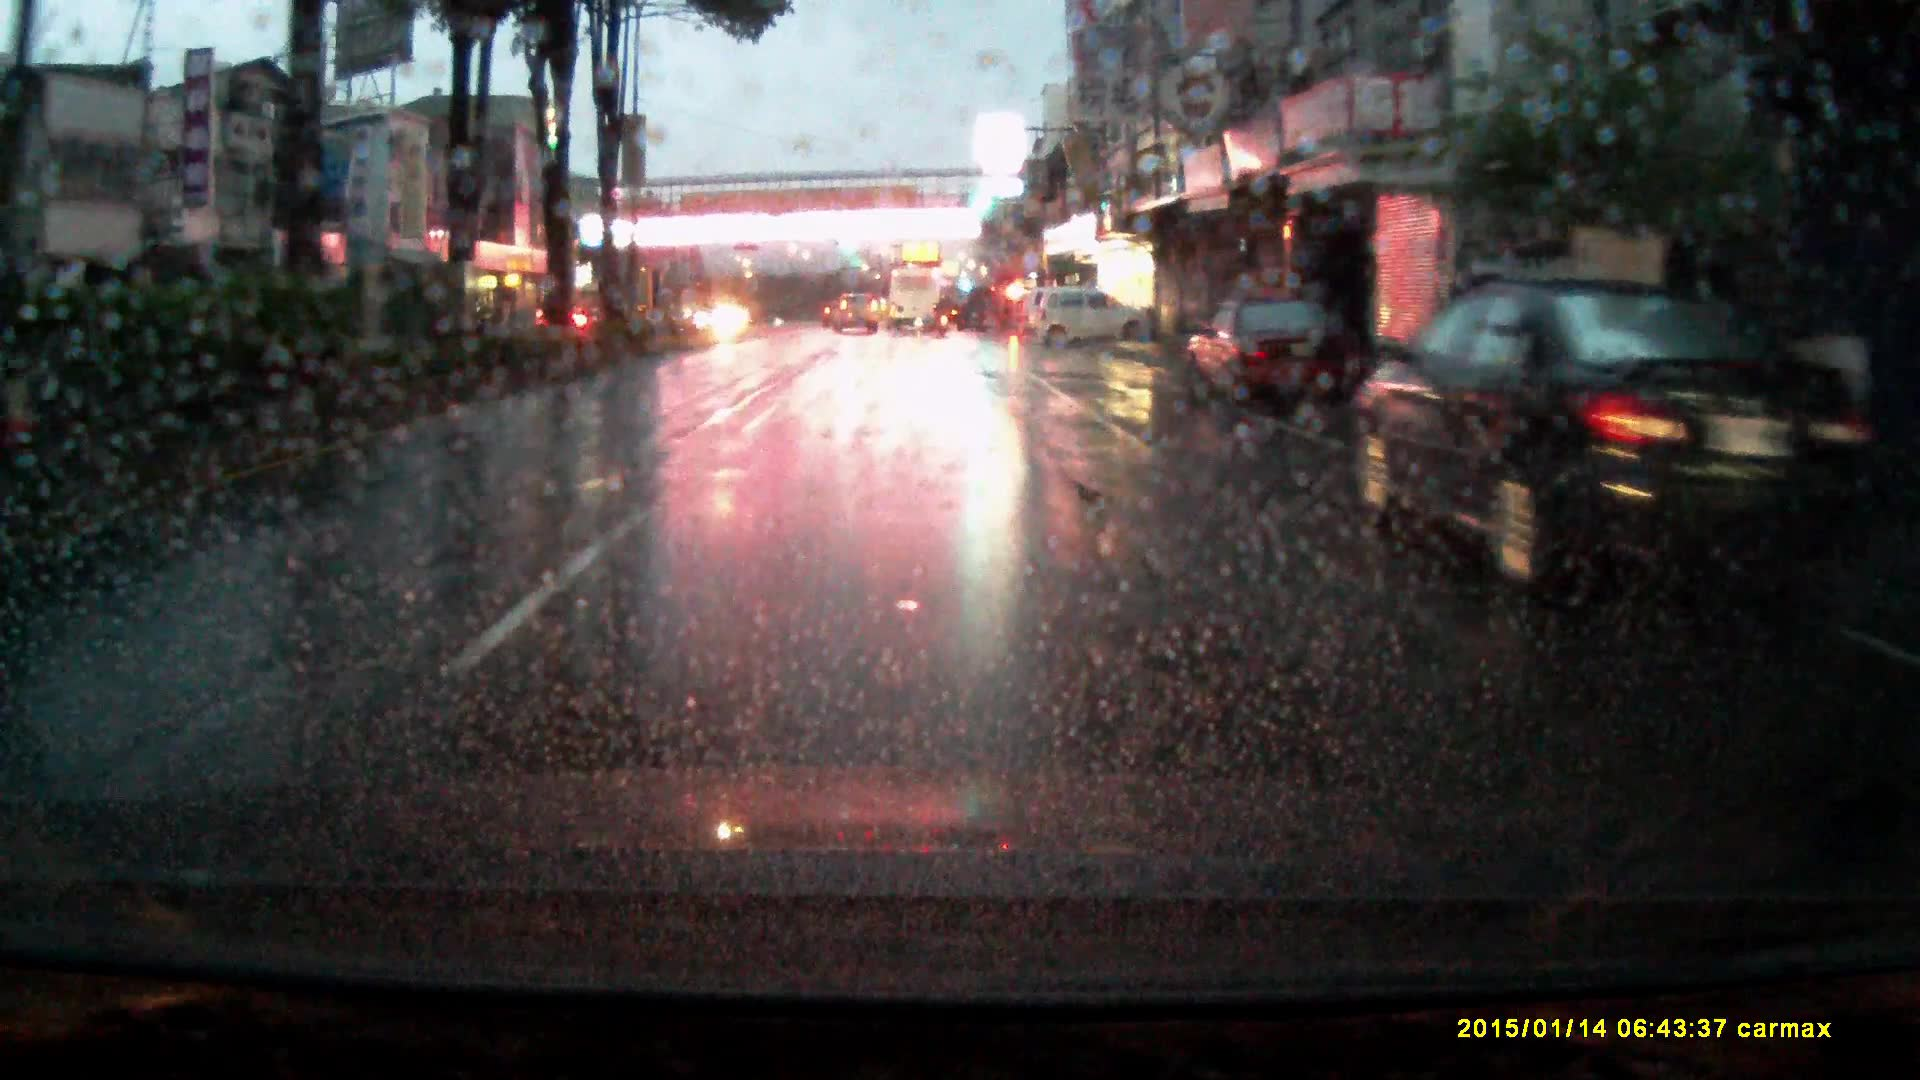vehicle: (1342, 281, 1808, 622), (1187, 305, 1371, 425), (1034, 291, 1151, 353), (886, 273, 942, 332), (833, 295, 880, 338)
